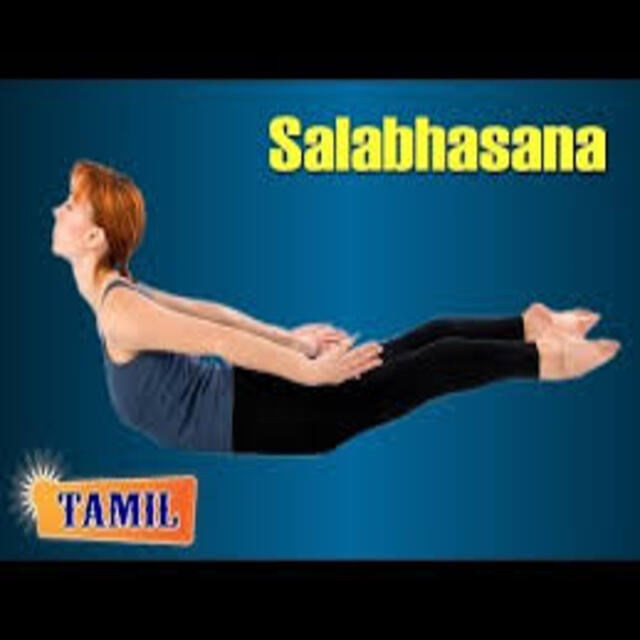Locust_Pose: (53, 162, 623, 460)
